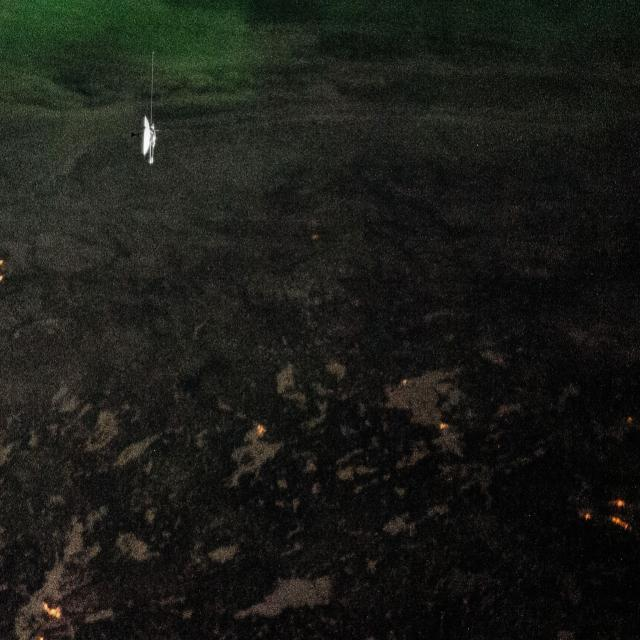satellite: (131, 40, 179, 173)
